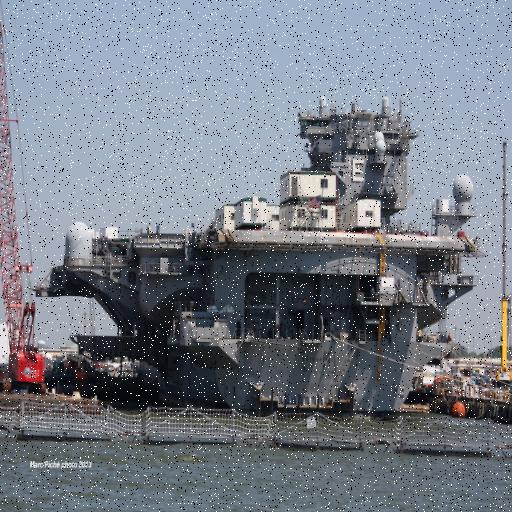Portanaves: (35, 91, 486, 430)
